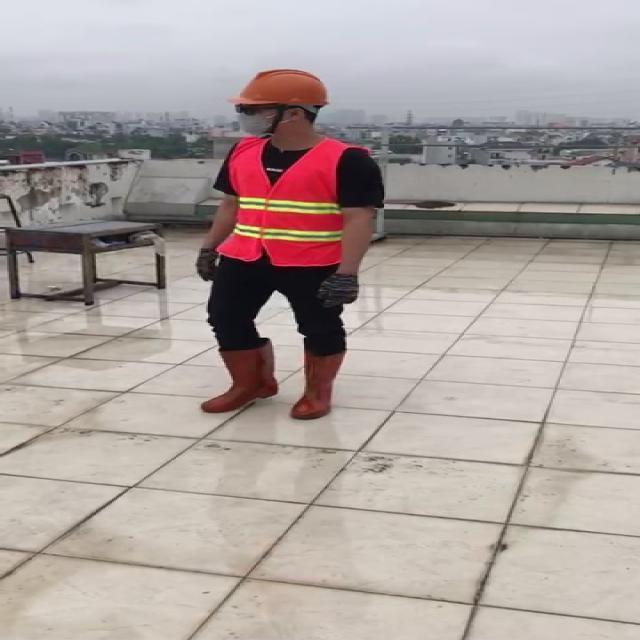gloves: (314, 266, 366, 310)
helmet: (224, 64, 334, 118)
safety_vest: (230, 134, 348, 270)
